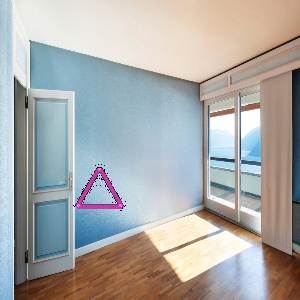triangle: (71, 160, 128, 214)
